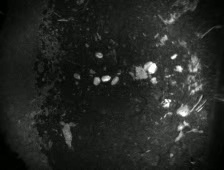corn: (141, 58, 155, 73), (146, 62, 158, 77), (107, 74, 120, 87), (91, 75, 103, 87), (99, 73, 112, 84), (70, 70, 82, 81), (94, 50, 104, 60)
